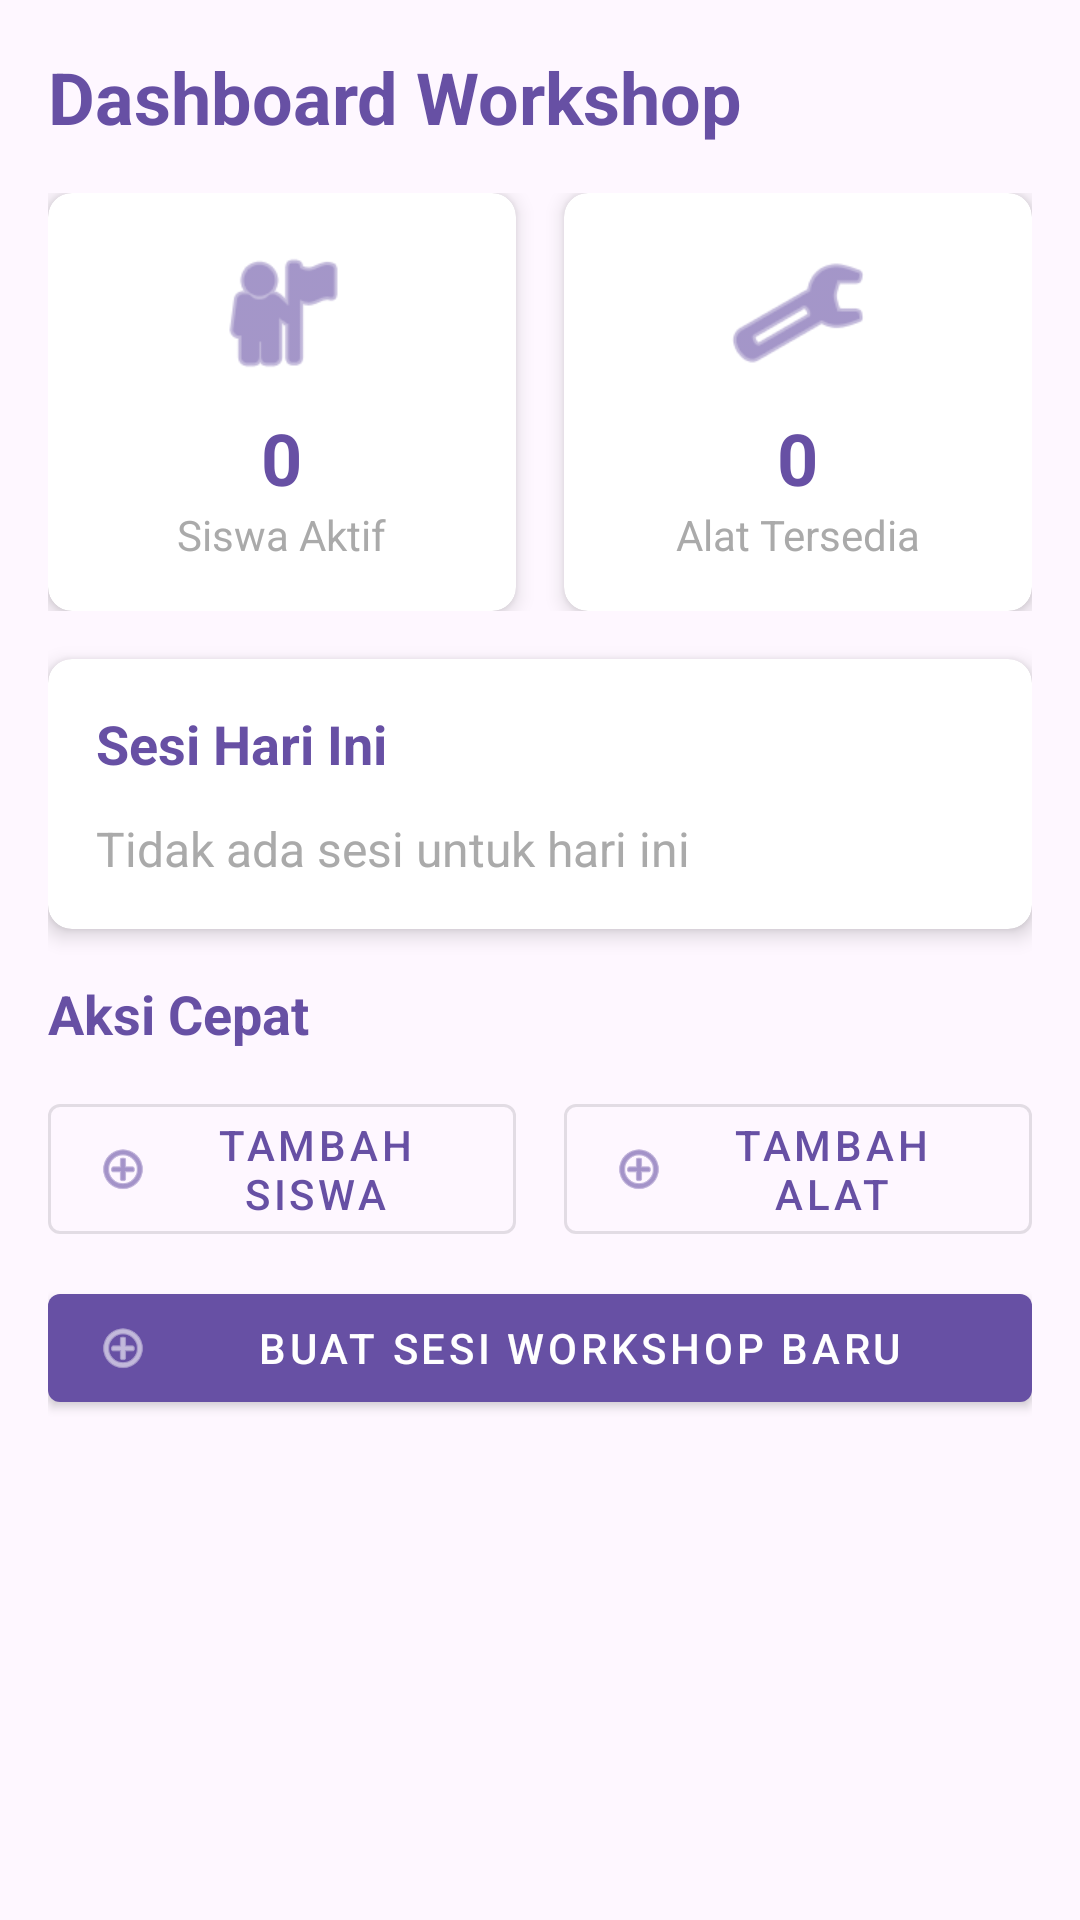

Icon click points for this 1080×1920 phone screenshot, format (x=x, y=y):
manage: (x=798, y=313)
myplaces: (x=283, y=313)
